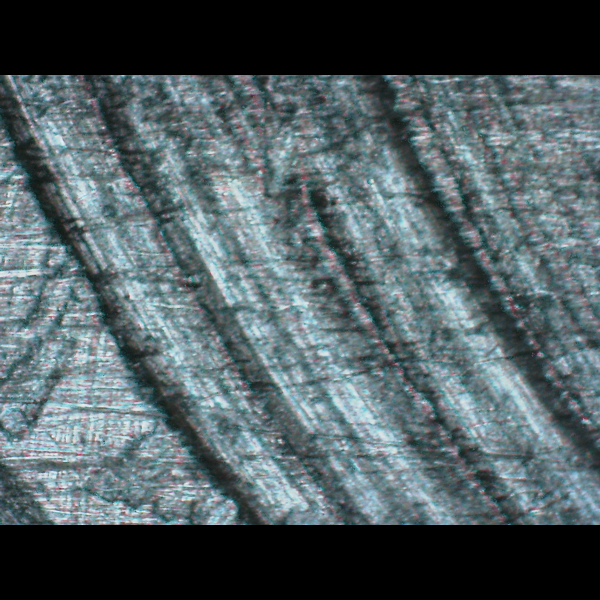d: (11, 75, 599, 519)
